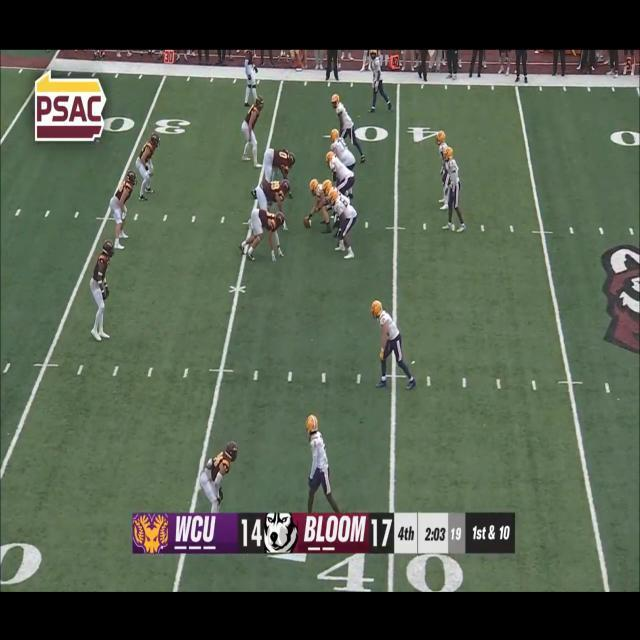football: (302, 212, 316, 236)
